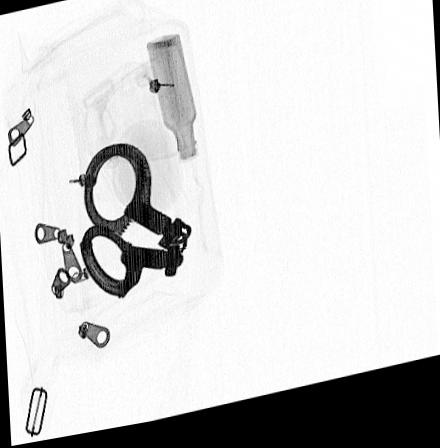HandCuffs: (79, 145, 193, 303)
